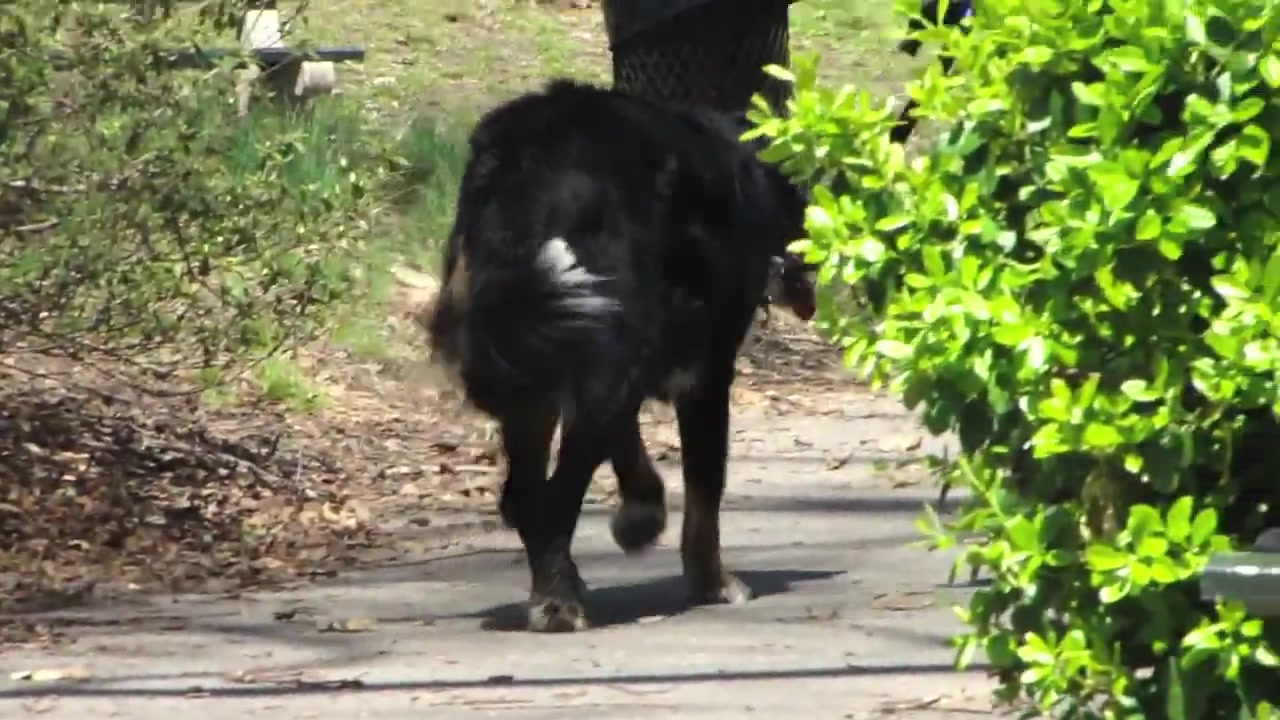dog: (412, 79, 810, 636)
